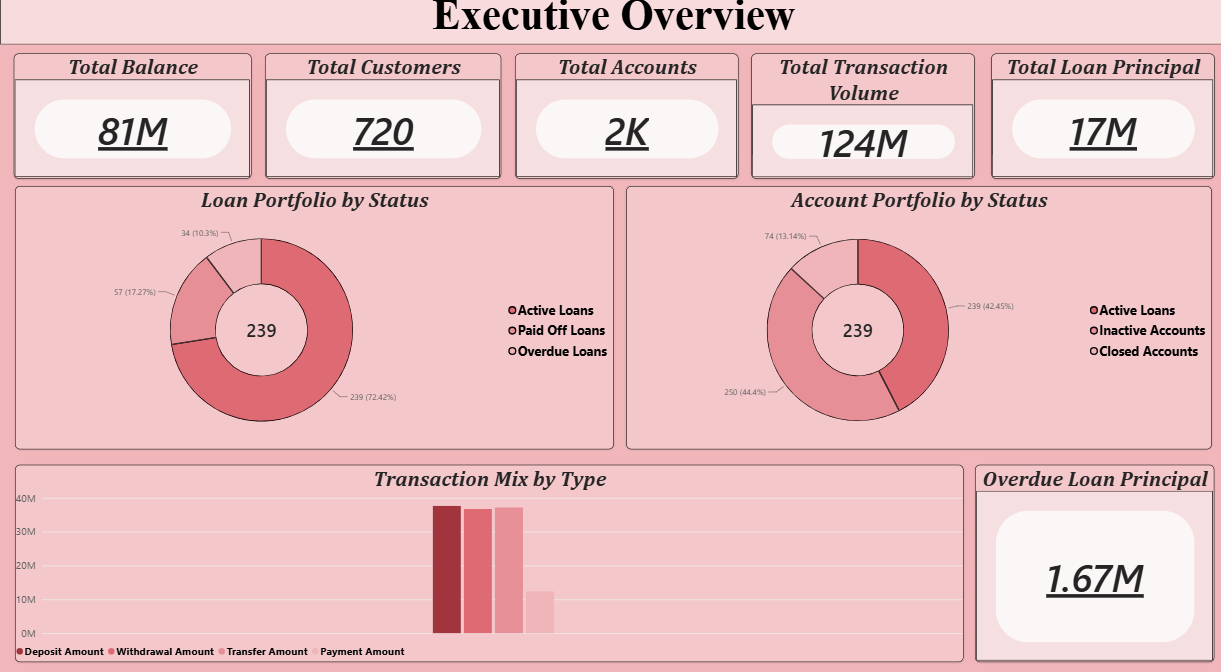

The page's visual inventory and layout, read from the dashboard file:
{"tool":"powerbi","page":{"name":"Overview","canvas":[1920,1080],"ordinal":0},"visuals":[{"type":"cardVisual","title":"Total Balance","fields":{"Data":["_Measures.Total Balance"]},"box":[22,106.2,371.6,195.9],"z":0},{"type":"cardVisual","title":"Total Accounts","fields":{"Data":["_Measures.Account Count"]},"box":[805.5,106.2,349.7,195.9],"z":1000},{"type":"cardVisual","title":"Total Customers","fields":{"Data":["_Measures.Customer Count (Distinct)"]},"box":[413.7,106.2,369.8,195.9],"z":2000},{"type":"cardVisual","title":"Total Transaction Volume","fields":{"Data":["_Measures.Total Transaction Amount"]},"box":[1175.3,106.2,349.7,195.9],"z":3000},{"type":"cardVisual","title":"Total Loan Principal","fields":{"Data":["_Measures.Total Principal Amount"]},"box":[1550.6,106.2,349.7,195.9],"z":4000},{"type":"cardVisual","title":"Overdue Loan Principal","fields":{"Data":["_Measures.Overdue Principal Amount"]},"box":[1525.2,749.2,374.6,308.7],"z":5000},{"type":"clusteredColumnChart","title":"Transaction Mix by Type","fields":{"Y":["_Measures.Deposit Amount","_Measures.Withdrawal Amount","_Measures.Transfer Amount","_Measures.Payment Amount"]},"box":[22.6,749.2,1484.1,308.7],"z":6000},{"type":"donutChart","title":"Loan Portfolio by Status","fields":{"Y":["_Measures.Active Loans","_Measures.Paid Off Loans","_Measures.Overdue Loans"]},"box":[22.6,312.9,936.5,411.7],"z":7000},{"type":"donutChart","title":"Account Portfolio by Status","fields":{"Y":["_Measures.Active Loans","_Measures.Inactive Accounts","_Measures.Closed Accounts"]},"box":[979.8,312.9,916,411.7],"z":8000},{"type":"shape","box":[0,0,1920.4,91.5],"z":8001}]}

Visuals, with their boxes in screenshot pixels (x1, y1, x2, y2), scaled from the page's 1920x1080 canvas onto the 1221x672 screenshot:
"Total Balance" cardVisual: crop(14, 66, 250, 188)
"Total Accounts" cardVisual: crop(512, 66, 735, 188)
"Total Customers" cardVisual: crop(263, 66, 498, 188)
"Total Transaction Volume" cardVisual: crop(747, 66, 970, 188)
"Total Loan Principal" cardVisual: crop(986, 66, 1208, 188)
"Overdue Loan Principal" cardVisual: crop(970, 466, 1208, 658)
"Transaction Mix by Type" clusteredColumnChart: crop(14, 466, 958, 658)
"Loan Portfolio by Status" donutChart: crop(14, 195, 610, 451)
"Account Portfolio by Status" donutChart: crop(623, 195, 1206, 451)
shape: crop(0, 0, 1220, 57)
